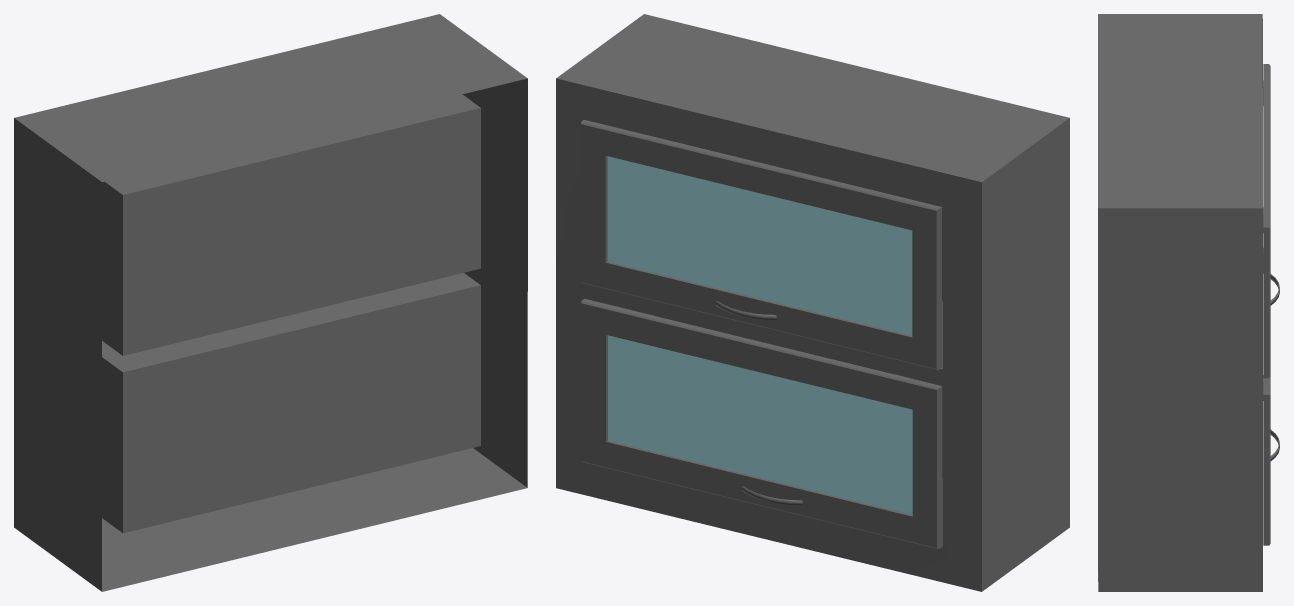
File: Kitchen_Wallcabinet3.FBX
The picture shows the model from 3 angles, left to right: view 1: azimuth 30°, elevation 25°; view 2: azimuth 150°, elevation 25°; view 3: azimuth 270°, elevation 25°; orthographic projection. The views are drawn at different scales.
Visible parts, largest first — view 1: Kitchen_Wallcabinet3; view 2: Kitchen_Wallcabinet3, Door061, Door062; view 3: Kitchen_Wallcabinet3, Door062, Door061.
Boxes of the visible parts, box(x1,y1,x2,y2) form: Kitchen_Wallcabinet3: box(14, 14, 527, 591); Kitchen_Wallcabinet3: box(556, 14, 1069, 591); Door061: box(581, 299, 942, 548); Door062: box(581, 119, 941, 369); Kitchen_Wallcabinet3: box(1098, 14, 1262, 591); Door062: box(1263, 64, 1279, 378); Door061: box(1263, 248, 1279, 545).
Bounding box in the file's own units: 125 × 115 × 49.45.
